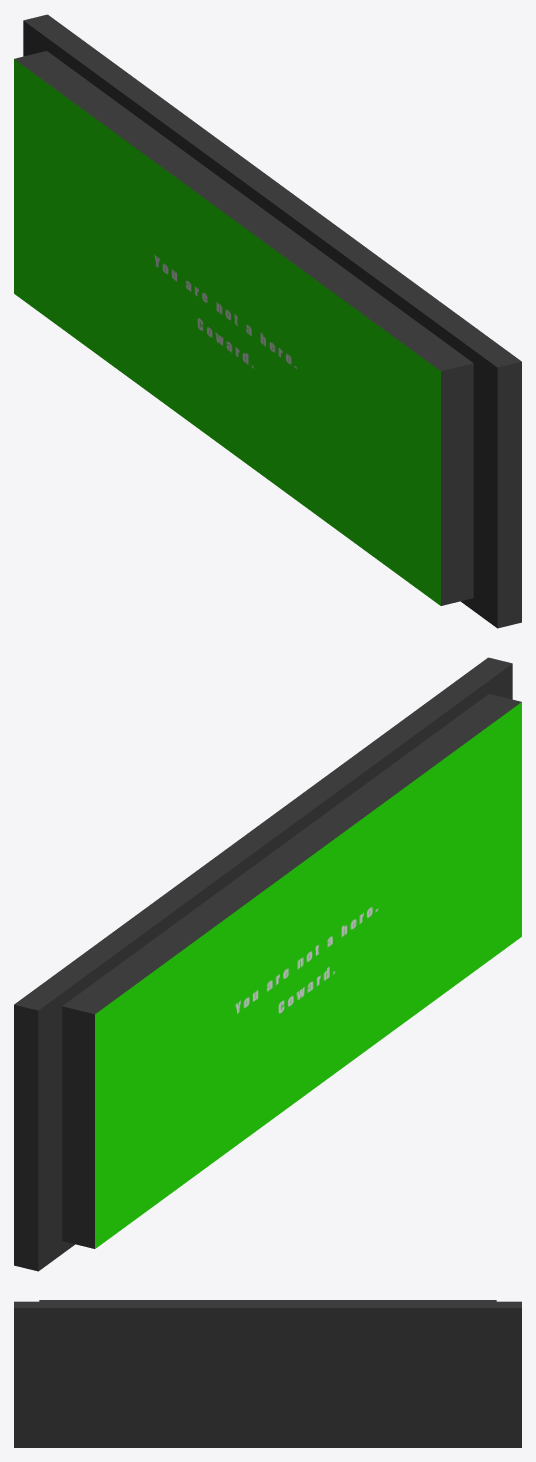
File: NotAHero.fbx
3 renders of one model, top to bottom at view 1: azimuth 30°, elevation 25°; view 2: azimuth 150°, elevation 25°; view 3: azimuth 270°, elevation 25°, orthographic. The views are drawn at different scales.
Visible parts, largest first — view 1: Not a hero; view 2: Not a hero; view 3: Not a hero.
Part boxes in pixels (x1=…): Not a hero: x1=14, y1=14, x2=521, y2=628; Not a hero: x1=14, y1=657, x2=521, y2=1271; Not a hero: x1=14, y1=1300, x2=521, y2=1447.
Bounding box in the file's own units: 46.06 × 200 × 659.
